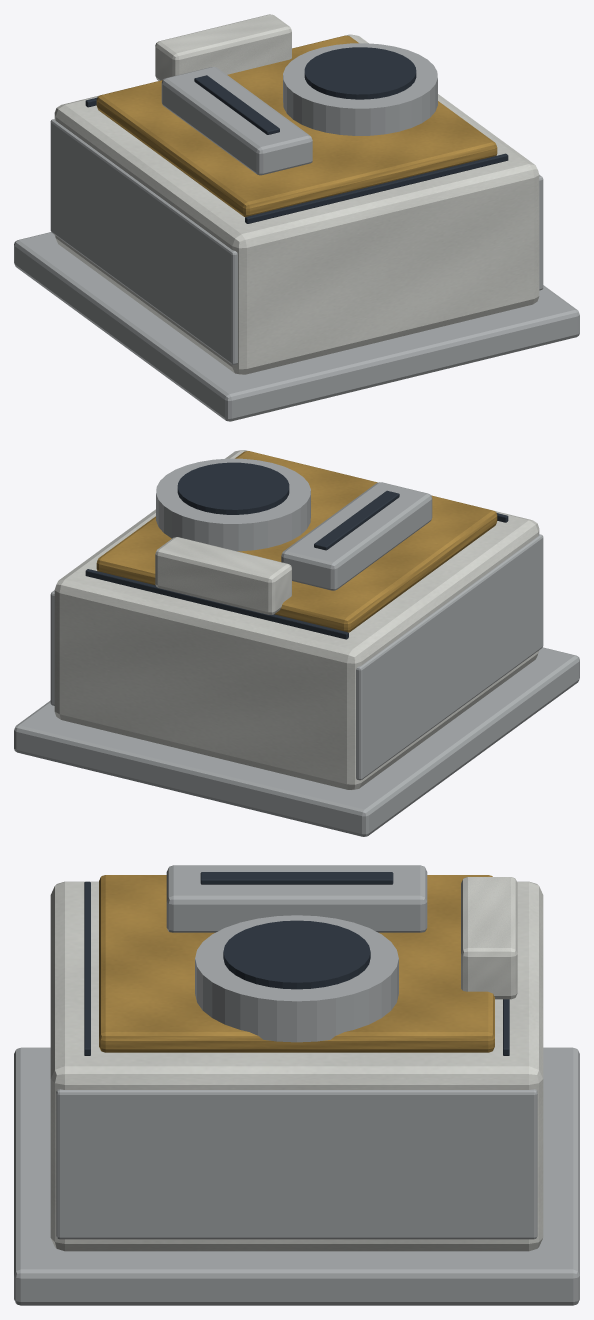
Rendered from telescope_spectrograph.glb.
The picture shows the model from 3 angles, top to bottom: view 1: azimuth 30°, elevation 25°; view 2: azimuth 150°, elevation 25°; view 3: azimuth 270°, elevation 25°; orthographic projection. The views are drawn at different scales.
Parts seen in each view (by area): view 1: Spectrograph_Housing, Mount_Base.004, Spectrograph_OpticalBench, Module_Rail.004, Input_SlitHousing, Grating_Cover, Electronics_Module, Grating_CoverInset, Module_Seam.004, Input_Slit, Module_Rail.005; view 2: Spectrograph_Housing, Mount_Base.004, Module_Rail.004, Spectrograph_OpticalBench, Input_SlitHousing, Grating_Cover, Electronics_Module, Grating_CoverInset, Module_Seam.005, Input_Slit, Module_Rail.005; view 3: Module_Rail.005, Mount_Base.004, Spectrograph_Housing, Spectrograph_OpticalBench, Grating_Cover, Input_SlitHousing, Grating_CoverInset, Electronics_Module, Input_Slit, Module_Seam.004.
Boxes of the visible parts, x1,y1,x2,y2 form: Spectrograph_Housing: [54, 34, 539, 374]; Mount_Base.004: [14, 232, 579, 421]; Spectrograph_OpticalBench: [96, 35, 497, 216]; Module_Rail.004: [50, 119, 237, 364]; Input_SlitHousing: [161, 67, 312, 175]; Grating_Cover: [283, 43, 437, 135]; Electronics_Module: [155, 14, 291, 80]; Grating_CoverInset: [304, 47, 416, 99]; Module_Seam.004: [245, 153, 508, 223]; Input_Slit: [194, 75, 279, 134]; Module_Rail.005: [539, 175, 543, 290]; Spectrograph_Housing: [54, 450, 539, 790]; Mount_Base.004: [14, 647, 579, 836]; Module_Rail.004: [356, 534, 543, 780]; Spectrograph_OpticalBench: [96, 451, 497, 632]; Input_SlitHousing: [281, 482, 432, 590]; Grating_Cover: [156, 458, 310, 551]; Electronics_Module: [155, 537, 291, 614]; Grating_CoverInset: [177, 462, 289, 514]; Module_Seam.005: [85, 569, 348, 639]; Input_Slit: [314, 490, 399, 550]; Module_Rail.005: [50, 590, 54, 705]; Module_Rail.005: [56, 1089, 537, 1239]; Mount_Base.004: [14, 1047, 579, 1305]; Spectrograph_Housing: [50, 881, 543, 1251]; Spectrograph_OpticalBench: [99, 875, 494, 1052]; Grating_Cover: [195, 915, 398, 1042]; Input_SlitHousing: [166, 865, 427, 932]; Grating_CoverInset: [223, 920, 370, 989]; Electronics_Module: [461, 877, 517, 999]; Input_Slit: [200, 872, 393, 884]; Module_Seam.004: [84, 881, 90, 1055].
Bounding box in the file's own units: 0.95 × 0.553 × 1.
4 materials, 2 textured.
